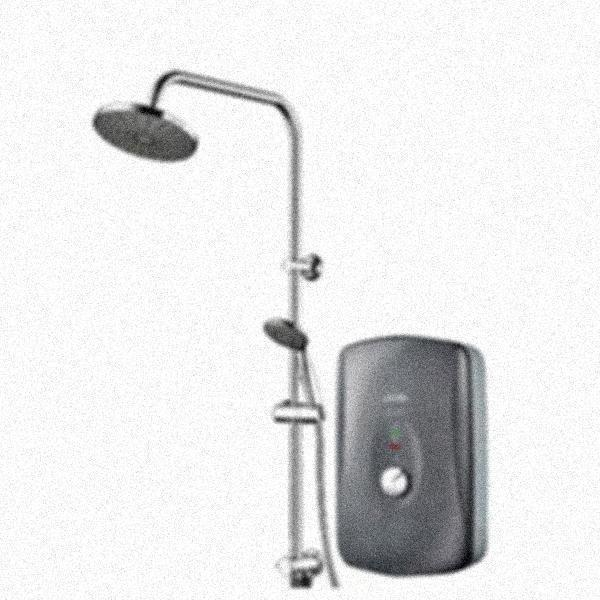Ducha: (85, 25, 517, 596)
